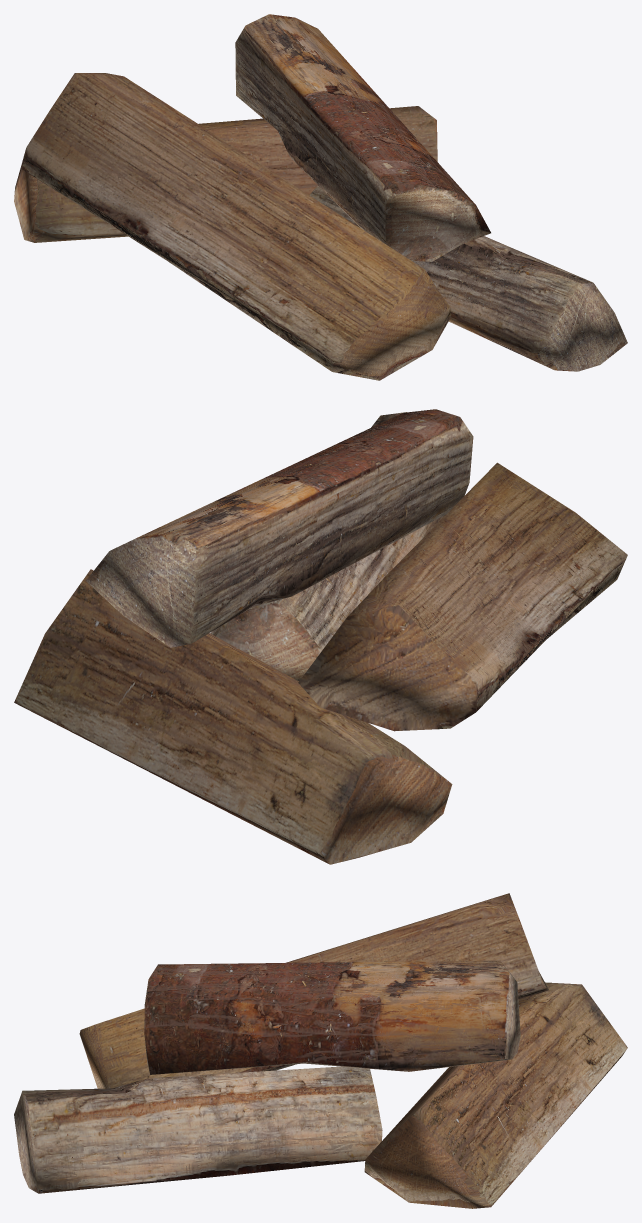
Rendered from Lumber8.fbx.
The picture shows the model from 3 angles, top to bottom: view 1: azimuth 30°, elevation 25°; view 2: azimuth 150°, elevation 25°; view 3: azimuth 270°, elevation 25°; orthographic projection. The views are drawn at different scales.
Parts seen in each view (by area): view 1: polySurface163; view 2: polySurface163; view 3: polySurface163.
Part boxes in pixels (left/top/right/bottom): polySurface163: left=14, top=14, right=627, bottom=380; polySurface163: left=14, top=409, right=627, bottom=864; polySurface163: left=14, top=893, right=627, bottom=1208.
Bounding box in the file's own units: 66.61 × 31.01 × 95.26.
